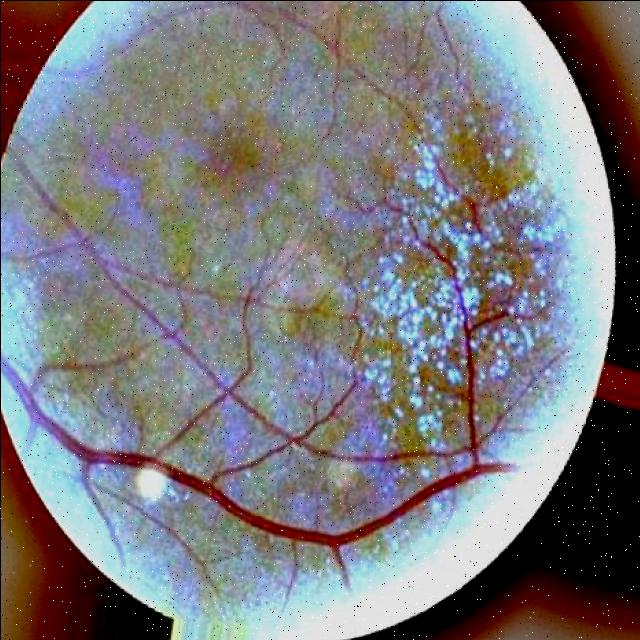Macula: (201, 127, 275, 182)
Nerves: (0, 154, 512, 585), (320, 19, 390, 96), (33, 350, 135, 382)
